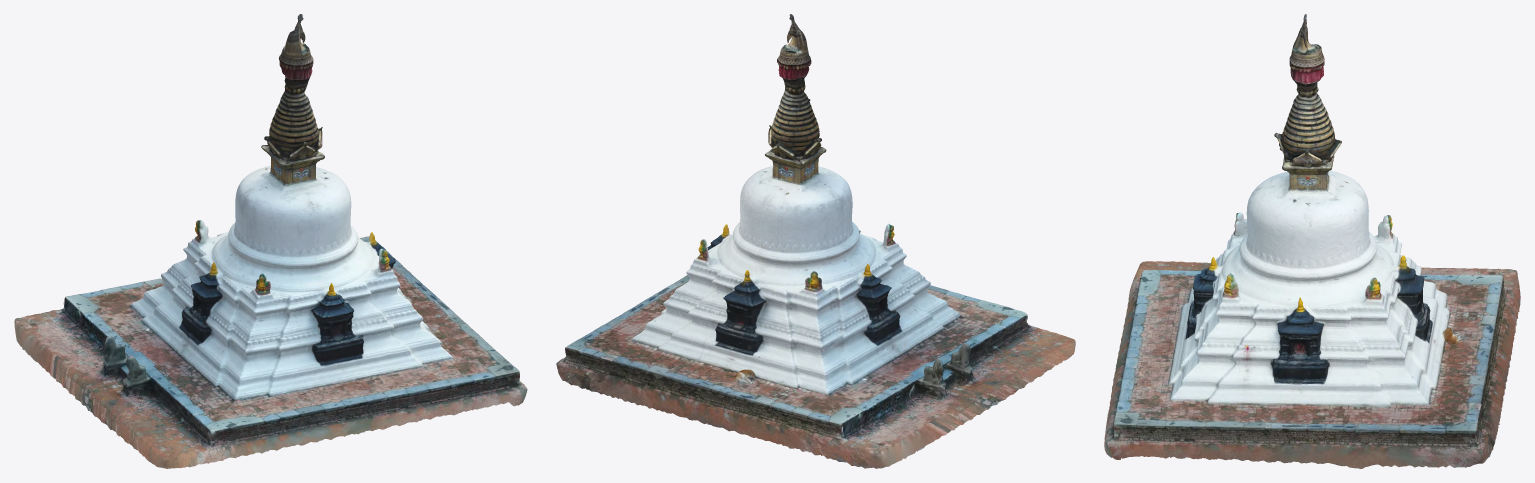
Rendered from yetkha-bahal.glb.
3 views of the same model, side by side, from view 1: azimuth 30°, elevation 25°; view 2: azimuth 150°, elevation 25°; view 3: azimuth 270°, elevation 25° (orthographic). The views are drawn at different scales.
Visible parts, largest first — view 1: Object_2; view 2: Object_2; view 3: Object_2.
Boxes of the visible parts, x1,y1,x2,y2 form: Object_2: [14, 14, 527, 468]; Object_2: [556, 14, 1075, 468]; Object_2: [1104, 14, 1520, 468].
Size of the model in its own units: 5.15 by 5.3 by 4.64.
Materials: 1 (1 with a texture image).
